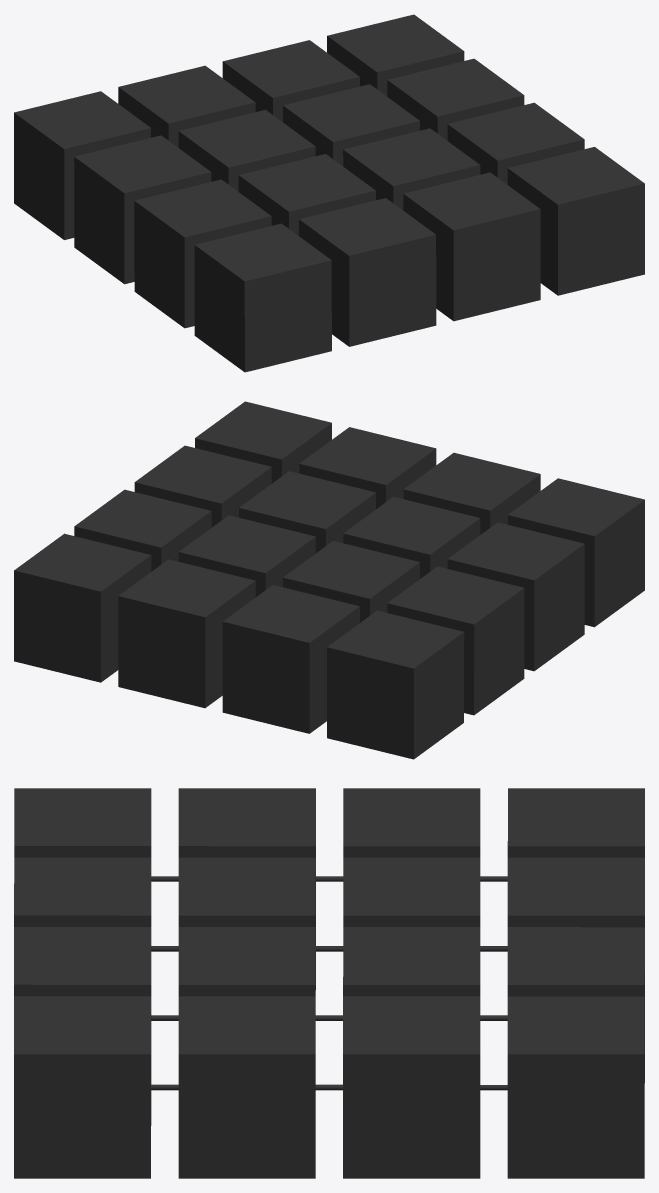
File: centered_16_Metric_Ton_CO2.glb
3 views of the same model, one above another, from view 1: azimuth 30°, elevation 25°; view 2: azimuth 150°, elevation 25°; view 3: azimuth 270°, elevation 25° (orthographic). The views are drawn at different scales.
Visible parts, largest first — view 1: 16 Metric Tons CO2 v1; view 2: 16 Metric Tons CO2 v1; view 3: 16 Metric Tons CO2 v1.
Boxes of the visible parts, left/top/right/bottom form: 16 Metric Tons CO2 v1: left=14, top=14, right=644, bottom=372; 16 Metric Tons CO2 v1: left=14, top=401, right=644, bottom=759; 16 Metric Tons CO2 v1: left=14, top=788, right=644, bottom=1178.
Bounding box in the file's own units: 3.45 × 0.7545 × 3.45.
Materials: 1 (1 with a texture image).
